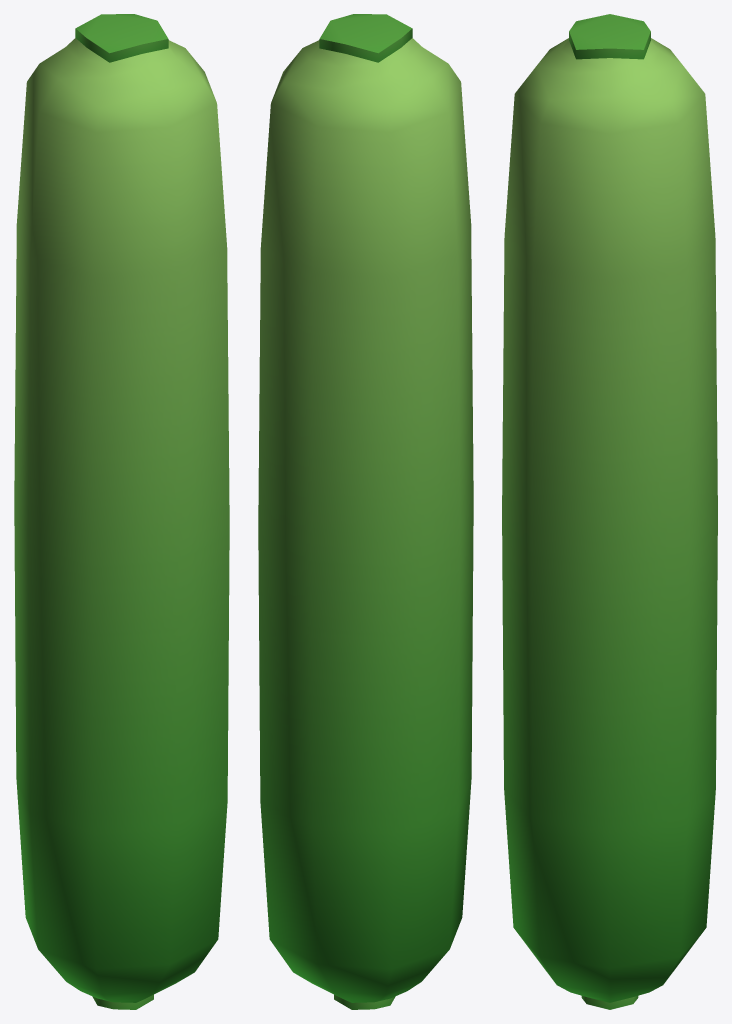
The model's file is cucumber.fbx.
The picture shows the model from 3 angles, left to right: view 1: azimuth 30°, elevation 25°; view 2: azimuth 150°, elevation 25°; view 3: azimuth 270°, elevation 25°; orthographic projection.
Visible parts, largest first — view 1: cucumber; view 2: cucumber; view 3: cucumber.
Boxes of the visible parts, x1,y1,x2,y2 form: cucumber: (14, 14, 229, 1009); cucumber: (258, 14, 473, 1009); cucumber: (502, 14, 717, 1009).
Size of the model in its own units: 24.64 by 122 by 24.64.
